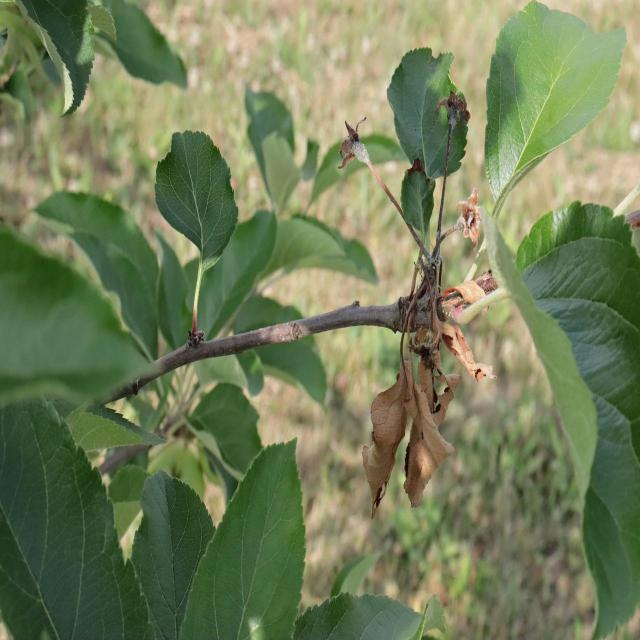-FireBlight-: (349, 250, 490, 524)
